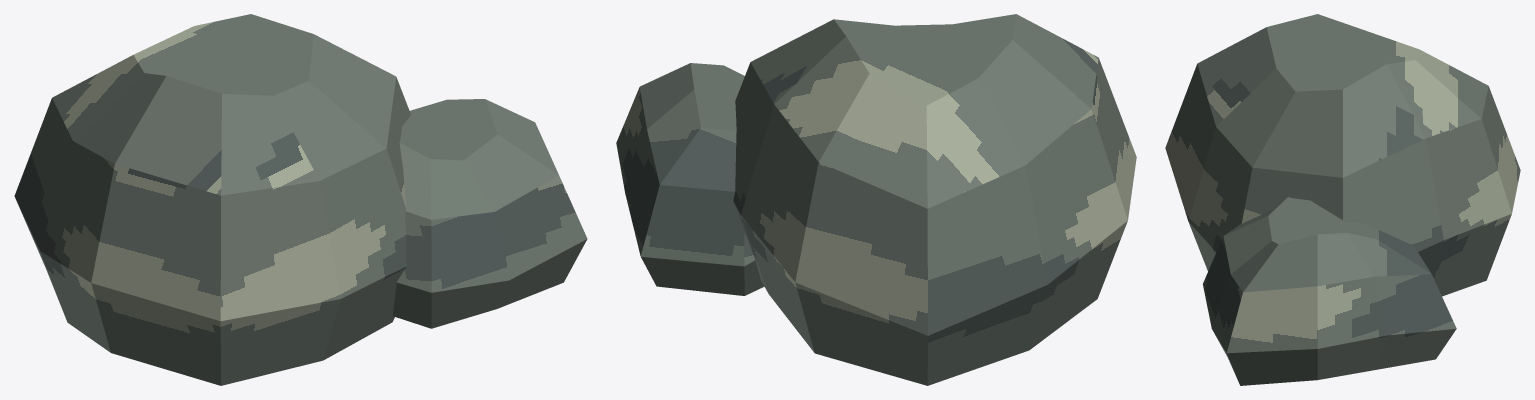
File: rock-graphic.glb
The picture shows the model from 3 angles, left to right: view 1: azimuth 30°, elevation 25°; view 2: azimuth 150°, elevation 25°; view 3: azimuth 270°, elevation 25°; orthographic projection. The views are drawn at different scales.
Parts seen in each view (by area): view 1: rock-graphic runtime mesh; view 2: rock-graphic runtime mesh; view 3: rock-graphic runtime mesh.
Boxes of the visible parts, x1,y1,x2,y2 form: rock-graphic runtime mesh: [14, 14, 587, 385]; rock-graphic runtime mesh: [616, 14, 1136, 385]; rock-graphic runtime mesh: [1165, 14, 1520, 385].
Size of the model in its own units: 1.14 by 0.5947 by 0.8387.
Materials: 1 (1 with a texture image).
